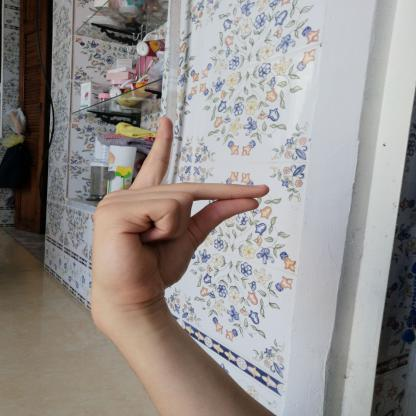TAA: (74, 110, 282, 313)
